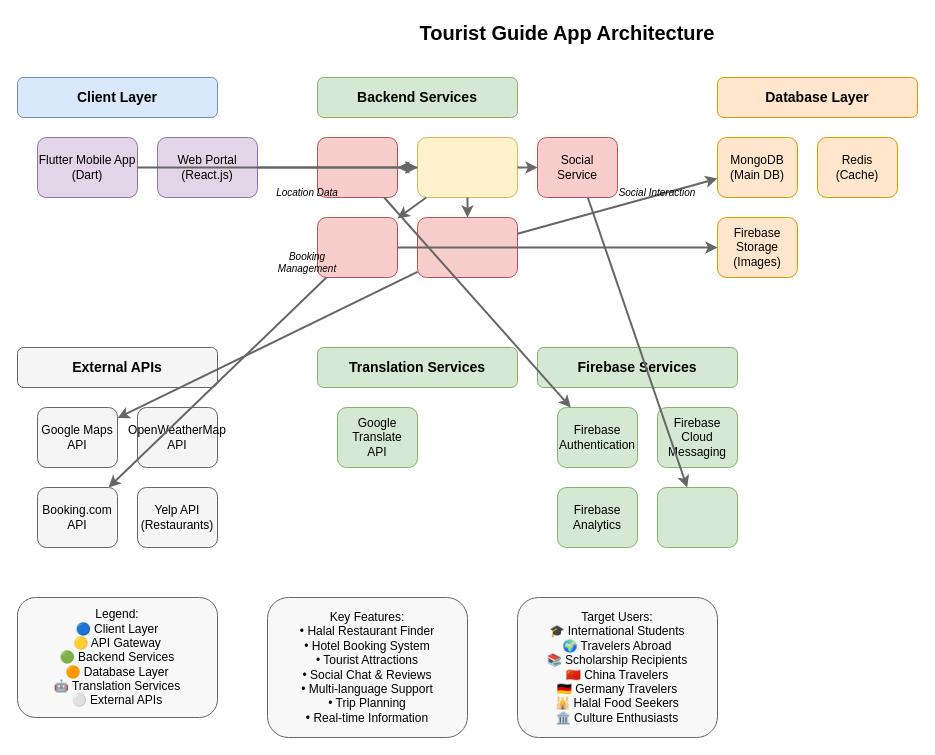
The diagram is 935 pixels wide and 755 high, and some of its shapes have lost their labels. The centre of each missing label's shape, as x and y in pixels:
"API Gateway (Express.js)" belongs at point 467,167.
"Authentication Service" belongs at point 357,167.
"Booking Service" belongs at point 357,247.
"Firebase Realtime Database" belongs at point 697,517.
"Location Service" belongs at point 467,247.
